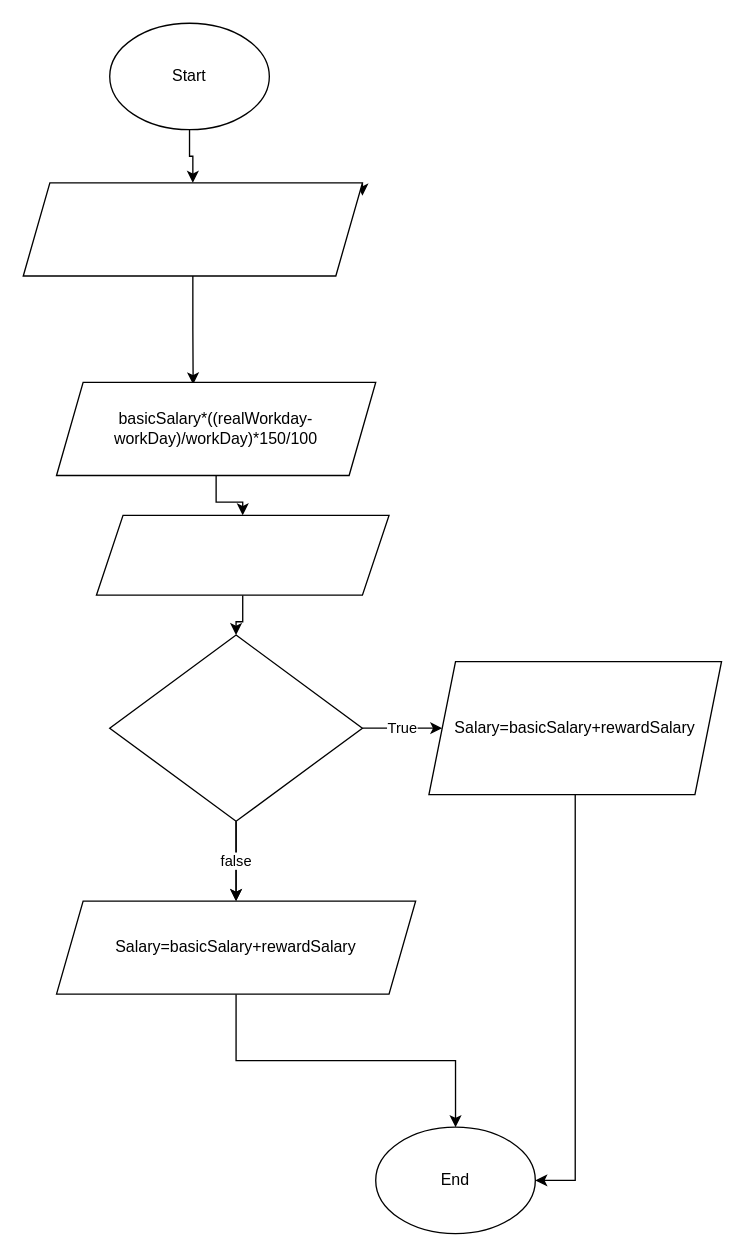
This 745x1257 diagram has some shape labels left out. Each missing label, with the box of its shape:
basicSalary=5000000, workday=26, realWorkday: (22, 182, 362, 276)
realWorkday>workDay: (108, 634, 362, 821)
Salary=basicSalary*(realWorkday / (float)workDay): (95, 514, 389, 595)
